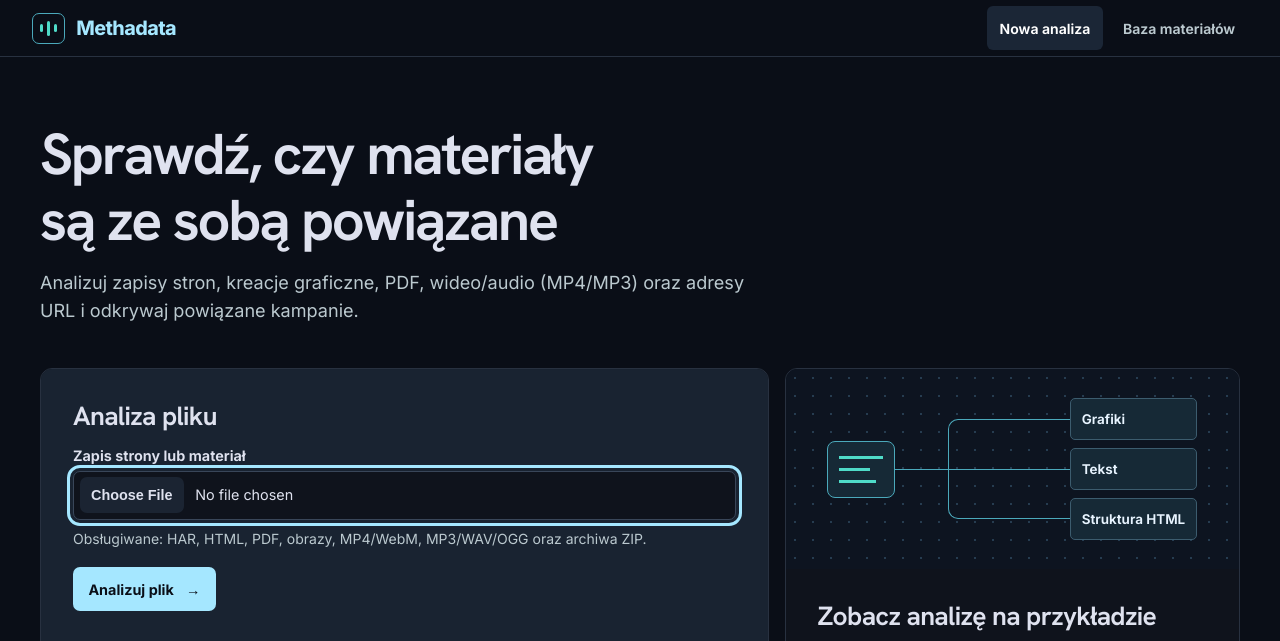
Test: ekran startowy › plik: wysyła multipart z polem file
The image size is (1280, 641).
Earlier steps of the test are not shown.
What coordinates should you click on to do the following:
click the button "Analizuj plik →"
I would click on:
 (144, 589)
Its box is [73, 567, 216, 611].
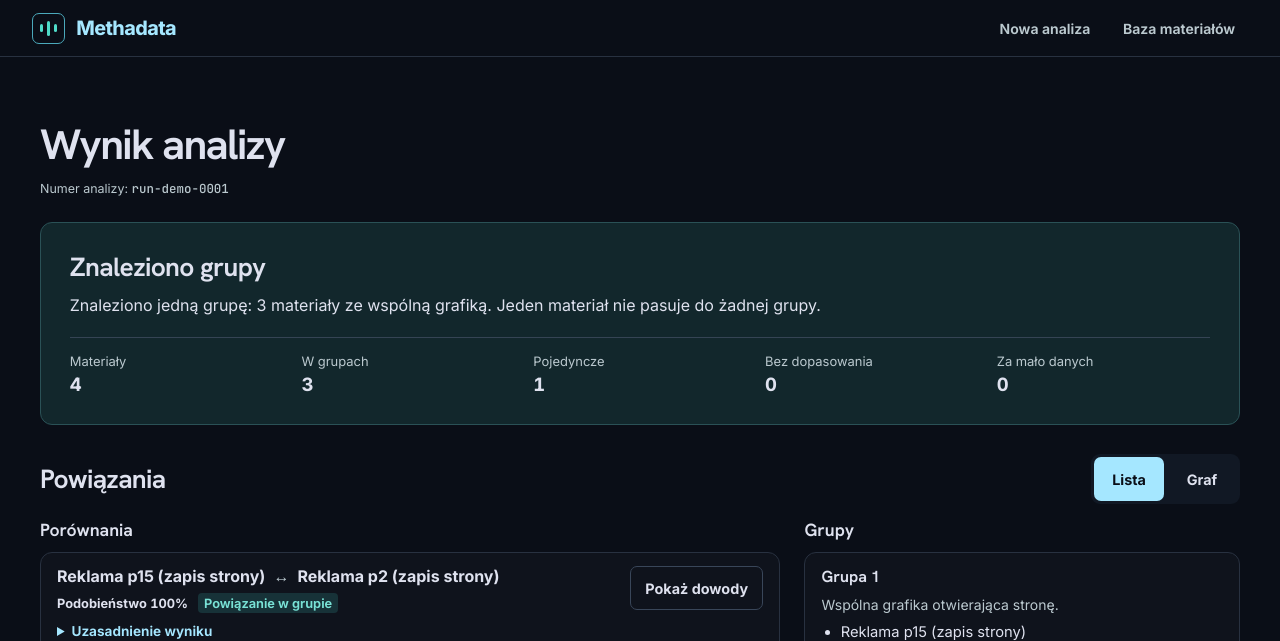
Result: the heading "Znaleziono grupy" is shown at [70, 250, 266, 284]
